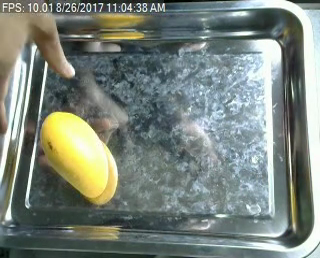Mango: (40, 101, 113, 199)
